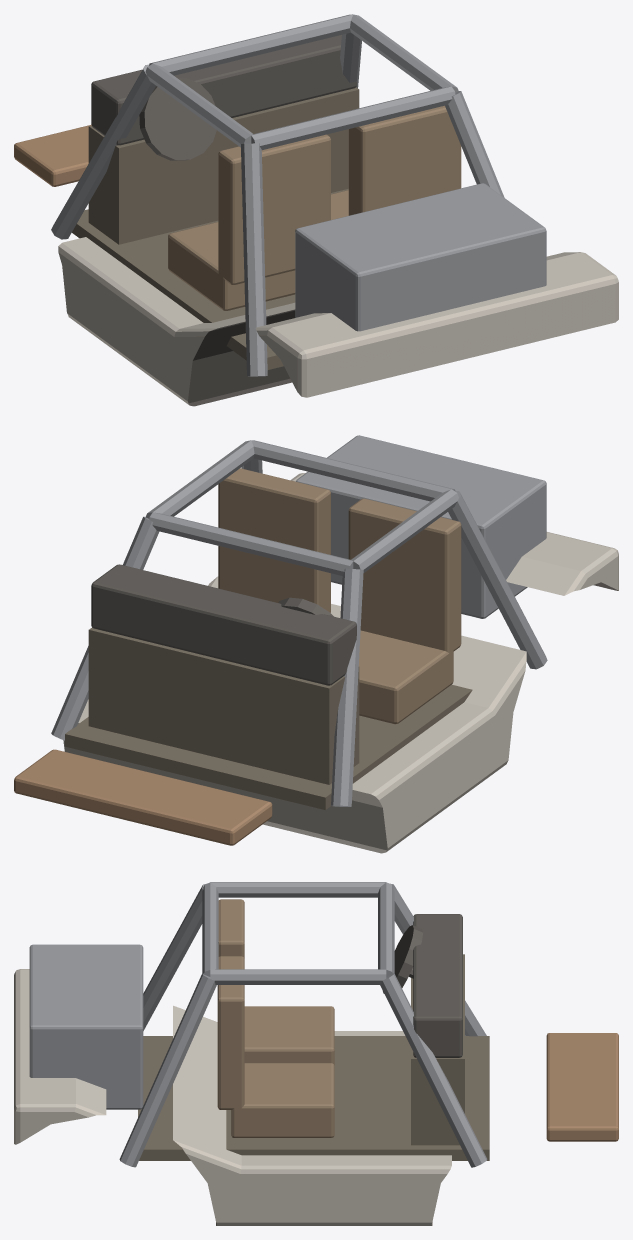
File: buggy.glb
The picture shows the model from 3 angles, top to bottom: view 1: azimuth 30°, elevation 25°; view 2: azimuth 150°, elevation 25°; view 3: azimuth 270°, elevation 25°; orthographic projection. The views are drawn at different scales.
Visible parts, largest first — view 1: pan, engine_rear, cowl, seat_back_0, dash, seat_back_1, cab_floor, cage_c_-1, seat_base_0, helm, cage_cross_r, cage_a_-1 (+6 smaller); view 2: pan, cowl, dash, engine_rear, seat_back_0, nose_rack, seat_back_1, cab_floor, seat_base_0, cage_a_-1, cage_cross_f, cage_c_-1 (+4 smaller); view 3: pan, cab_floor, engine_rear, nose_rack, seat_base_1, dash, seat_base_0, cage_c_1, seat_back_1, cage_a_1, cowl, cage_top_1 (+7 smaller).
Boxes of the visible parts, x1,y1,x2,y2 form: pan: [58, 237, 618, 406]; engine_rear: [295, 183, 546, 331]; cowl: [88, 87, 359, 244]; seat_back_0: [218, 134, 330, 284]; dash: [91, 35, 356, 145]; seat_back_1: [348, 105, 461, 215]; cab_floor: [72, 189, 348, 369]; cage_c_-1: [241, 143, 267, 376]; seat_base_0: [168, 222, 295, 310]; helm: [139, 78, 216, 160]; cage_cross_r: [251, 86, 455, 150]; cage_a_-1: [51, 64, 155, 239]; pan: [63, 473, 618, 853]; cowl: [88, 627, 359, 784]; dash: [91, 564, 356, 685]; engine_rear: [296, 435, 546, 618]; seat_back_0: [348, 498, 461, 653]; nose_rack: [14, 749, 272, 845]; seat_back_1: [218, 468, 330, 612]; cab_floor: [65, 684, 472, 809]; seat_base_0: [358, 630, 453, 724]; cage_a_-1: [331, 568, 363, 806]; cage_cross_f: [149, 512, 353, 575]; cage_c_-1: [448, 490, 547, 669]; pan: [14, 969, 451, 1225]; cab_floor: [138, 1036, 489, 1160]; engine_rear: [29, 944, 143, 1109]; nose_rack: [546, 1033, 618, 1141]; seat_base_1: [231, 1063, 334, 1137]; dash: [413, 914, 462, 1057]; seat_base_0: [244, 1006, 334, 1065]; cage_c_1: [119, 973, 216, 1167]; seat_back_1: [217, 956, 244, 1109]; cage_a_1: [380, 973, 487, 1167]; cowl: [411, 954, 464, 1145]; cage_top_1: [210, 969, 386, 984].
Bounding box in the file's own units: 1.6 × 1.24 × 2.92.
